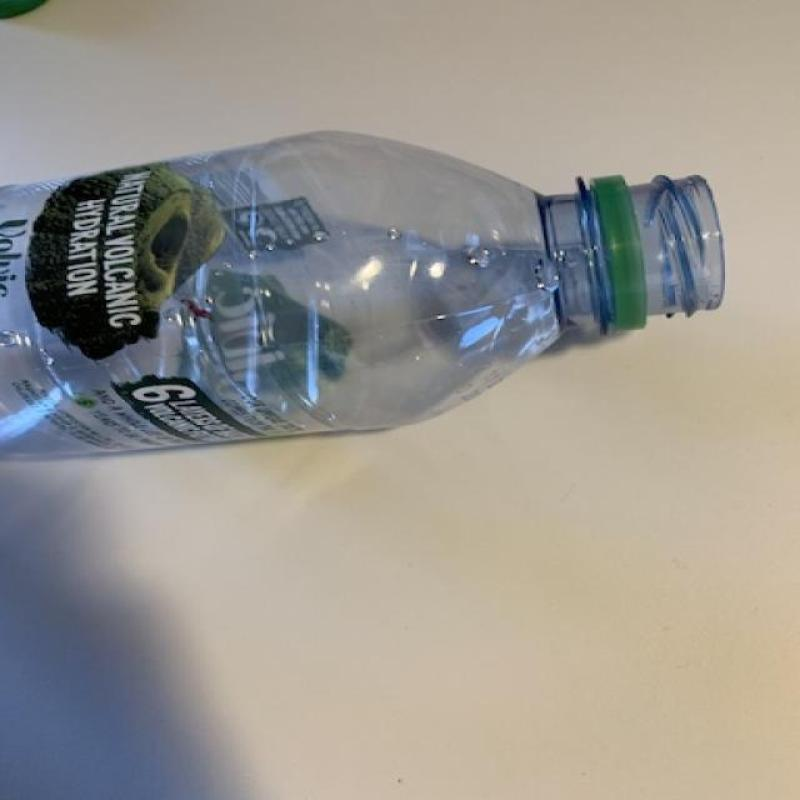botella: (0, 131, 728, 460)
